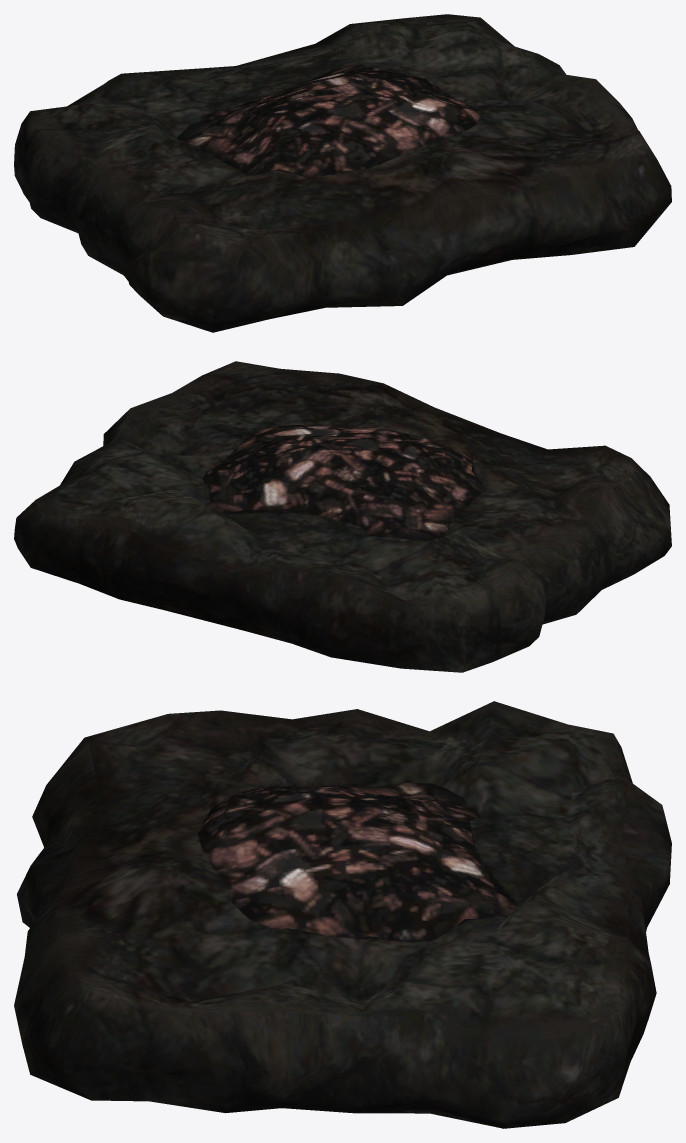
Rendered from fire_place.dae.
The picture shows the model from 3 angles, top to bottom: view 1: azimuth 30°, elevation 25°; view 2: azimuth 150°, elevation 25°; view 3: azimuth 270°, elevation 25°; orthographic projection. The views are drawn at different scales.
Parts seen in each view (by area): view 1: polySurface4; view 2: polySurface4; view 3: polySurface4.
Part boxes in pixels (bbox=[...]): polySurface4: bbox=[14, 14, 671, 332]; polySurface4: bbox=[14, 361, 671, 672]; polySurface4: bbox=[14, 701, 671, 1128].
Bounding box in the file's own units: 1.72 × 0.3285 × 1.4.
